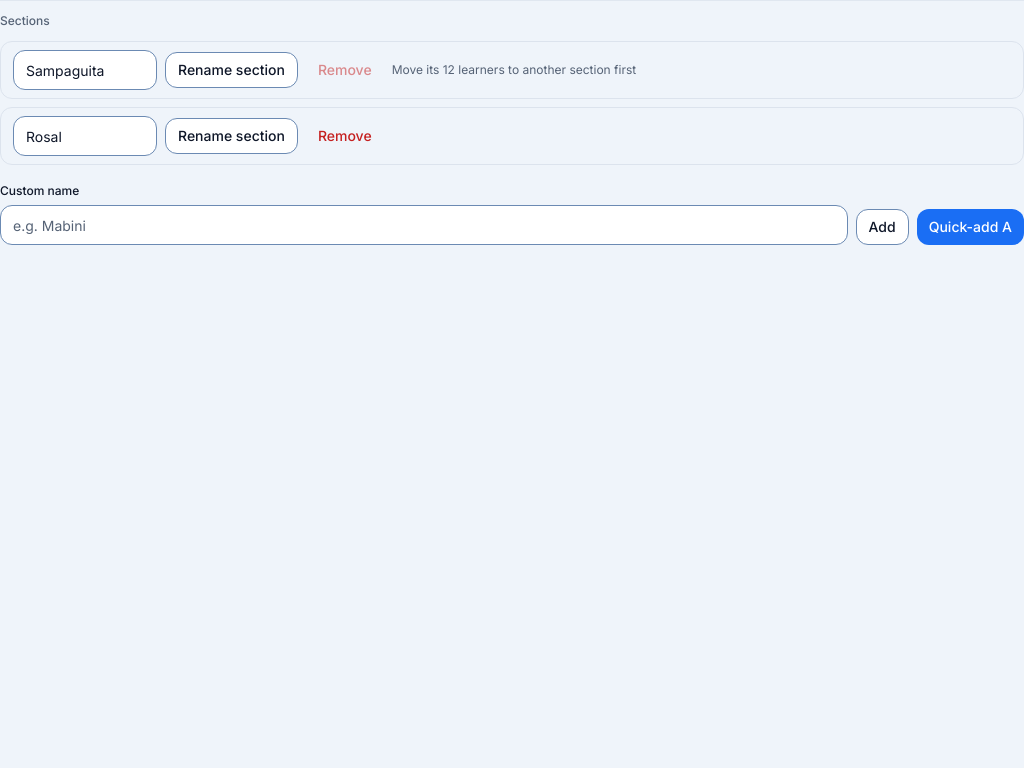
Test: GradeSectionsPanel — removing a section › says an empty section is hidden from teachers and its advisers are unassigned
This screenshot has width=1024, height=768.
Click the 2nd button "Remove": click(345, 136) [306,118,384,154]
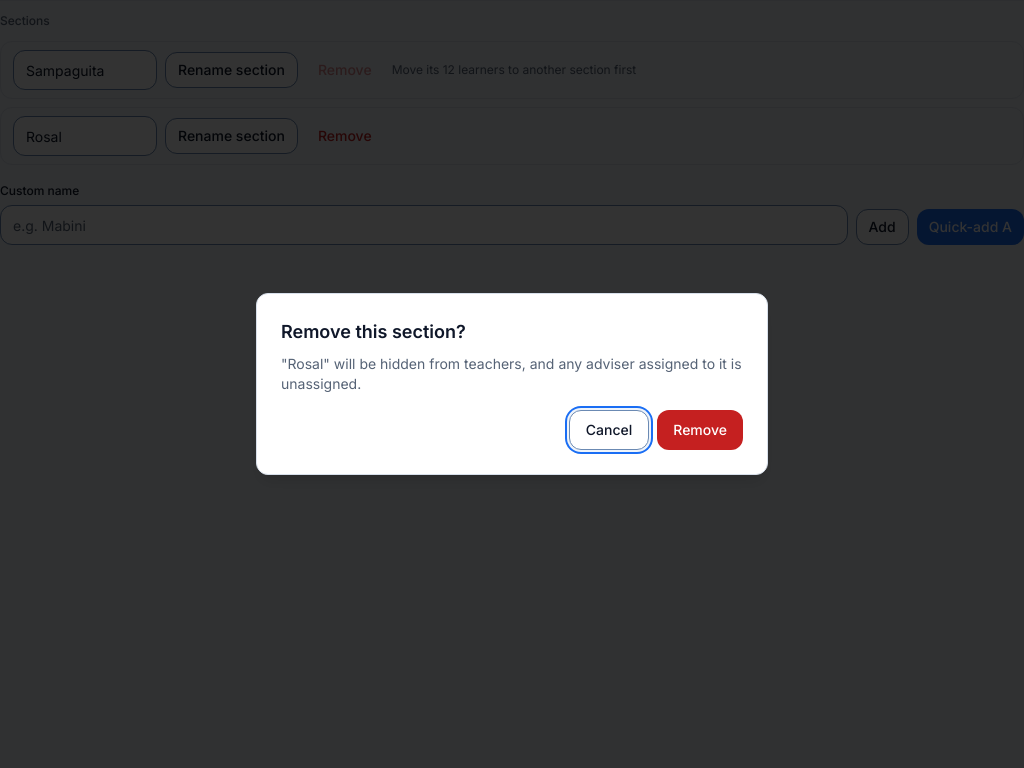
Result: the dialog shows "hidden from teachers" at [281,355,742,392]
Result: the dialog shows "adviser assigned to it is unassigned" at [281,355,742,392]
